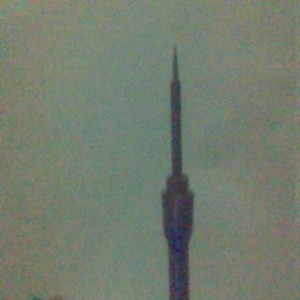solder: (161, 44, 194, 300)
